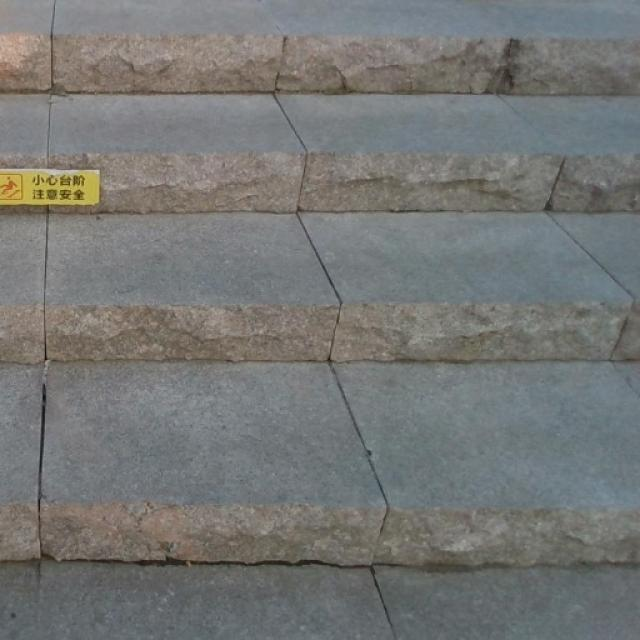Stairs: (0, 30, 639, 571)
